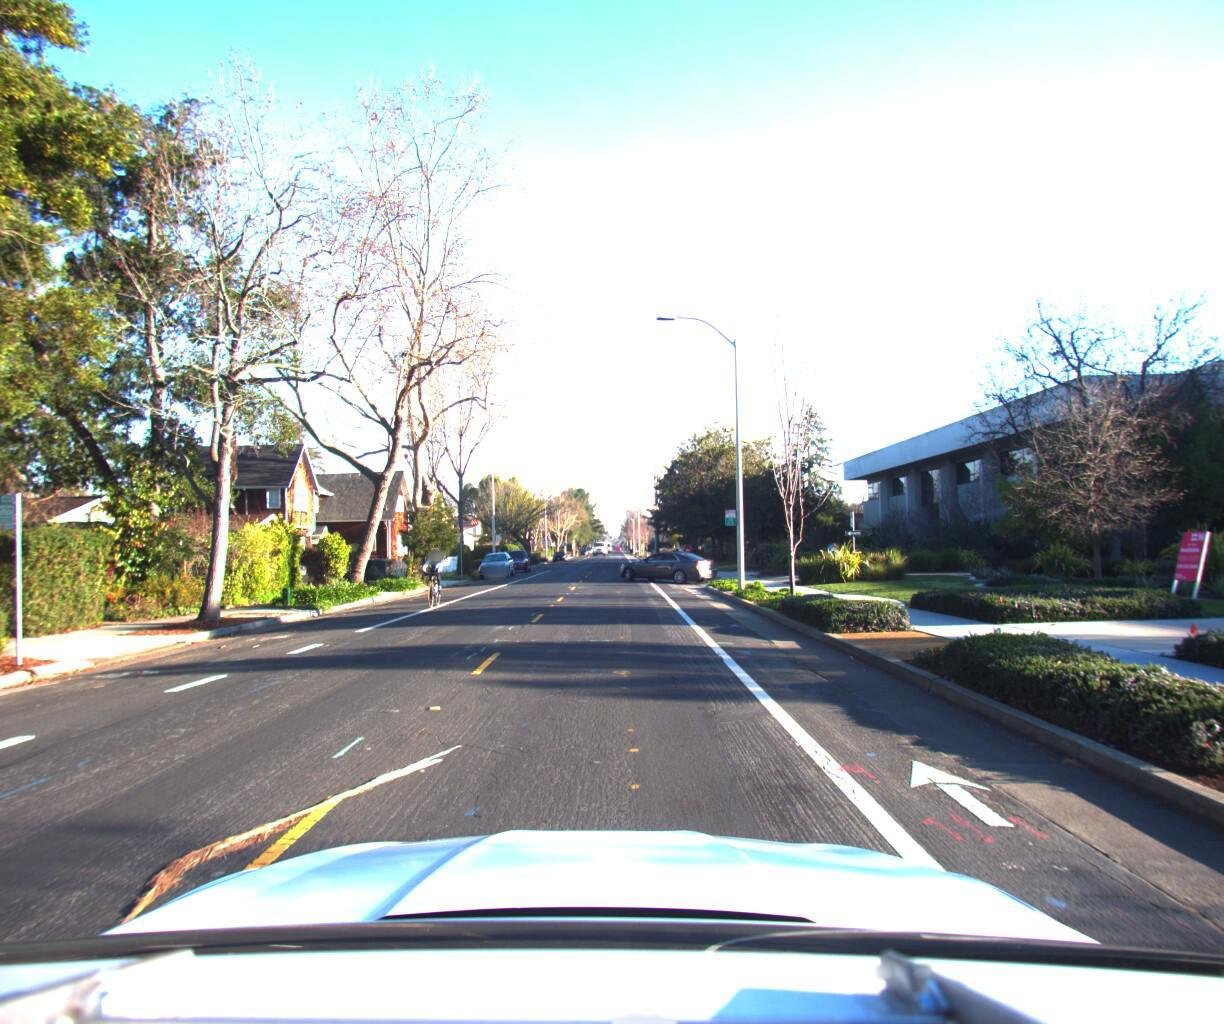bicycle: (411, 536, 453, 605)
car: (614, 540, 723, 575), (475, 541, 516, 571), (497, 539, 533, 566)
